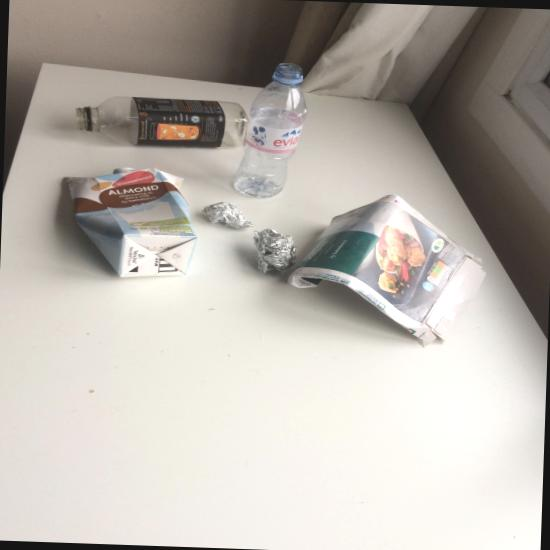Aluminium foil: (253, 229, 298, 273), (204, 202, 255, 228)
Clear plastic bottle: (235, 63, 308, 198), (75, 96, 248, 148)
Drink carton: (64, 167, 199, 278)
Meal carton: (285, 194, 486, 348)
